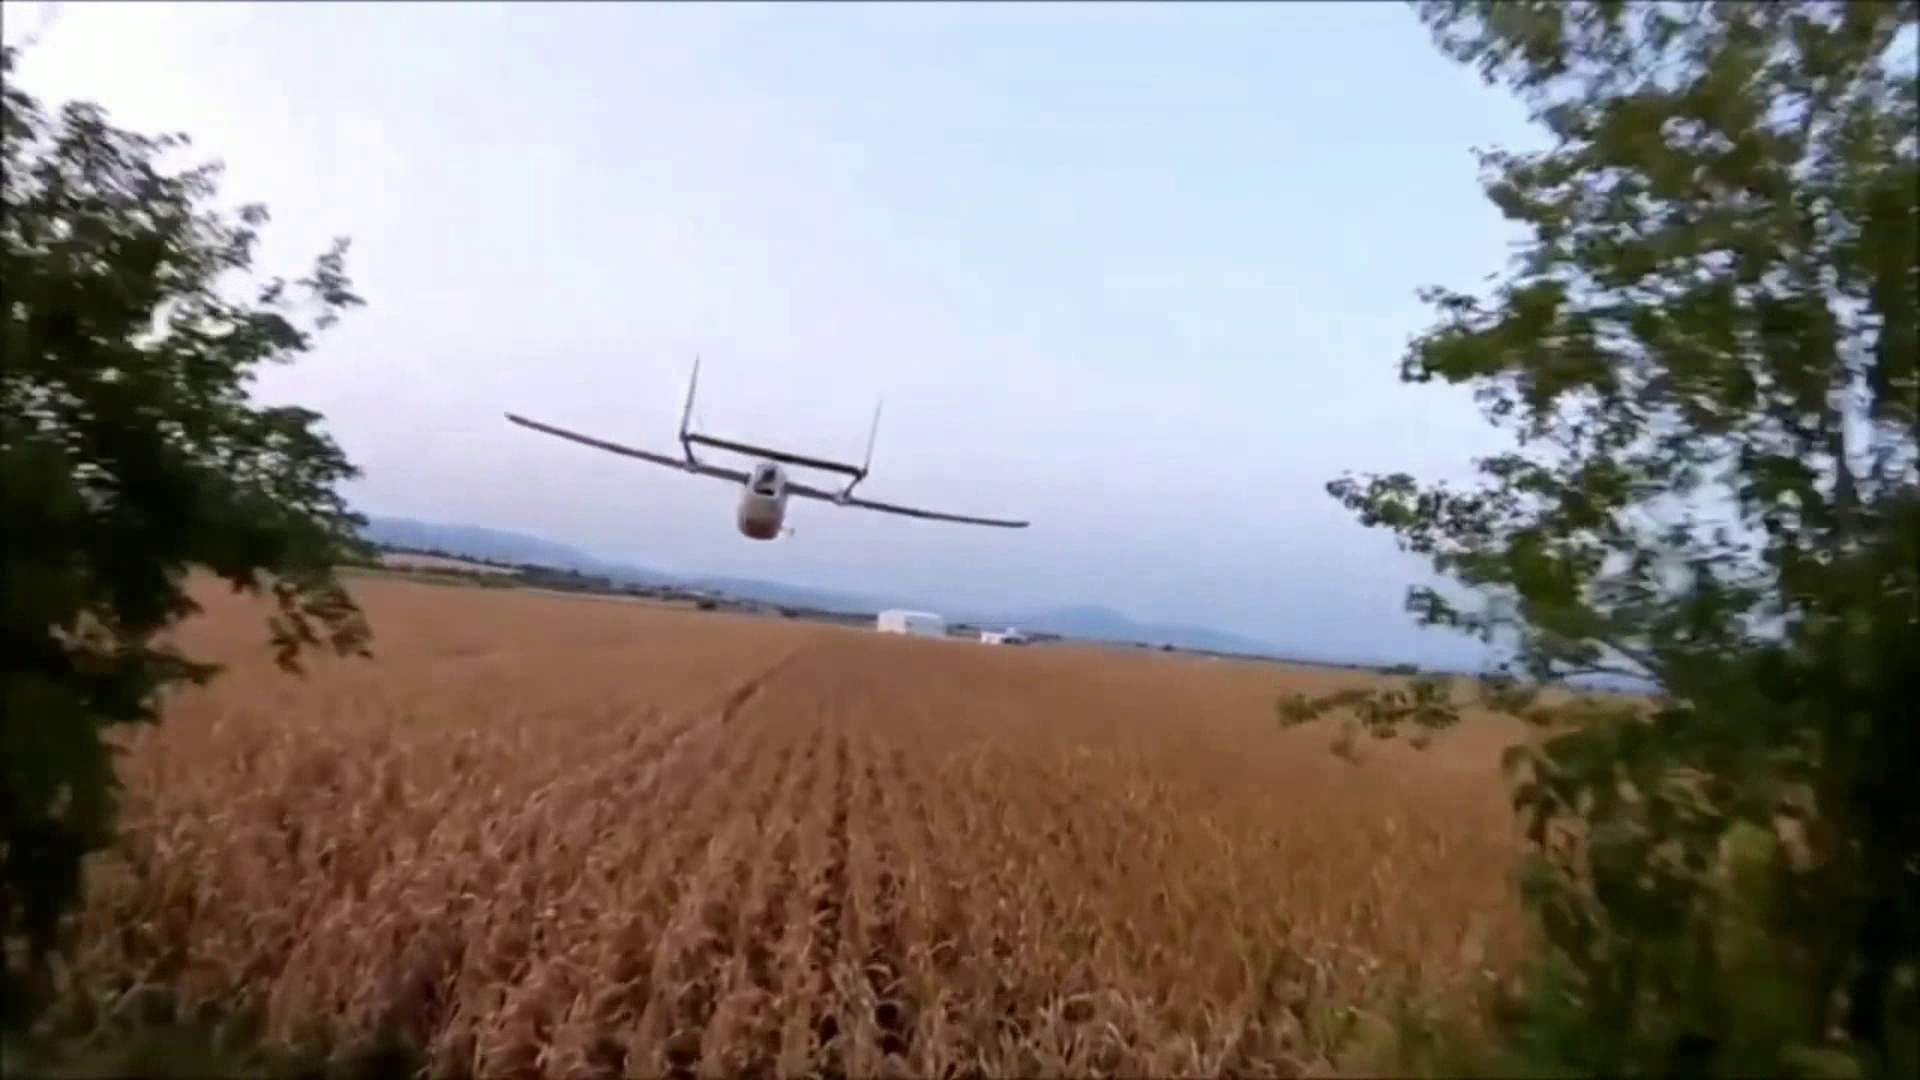airplane: (348, 357, 1035, 618), (498, 355, 1033, 541)
